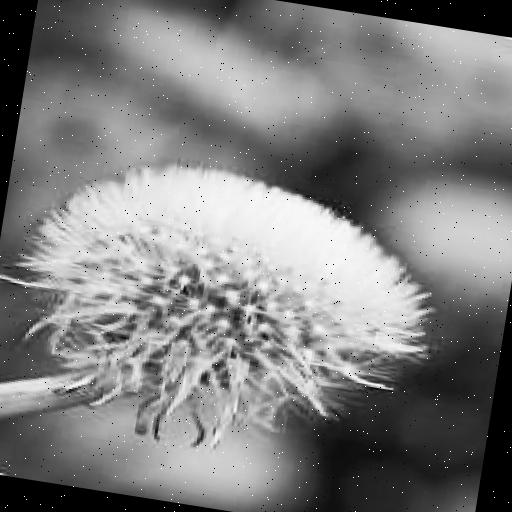dandelion: (0, 146, 455, 477)
